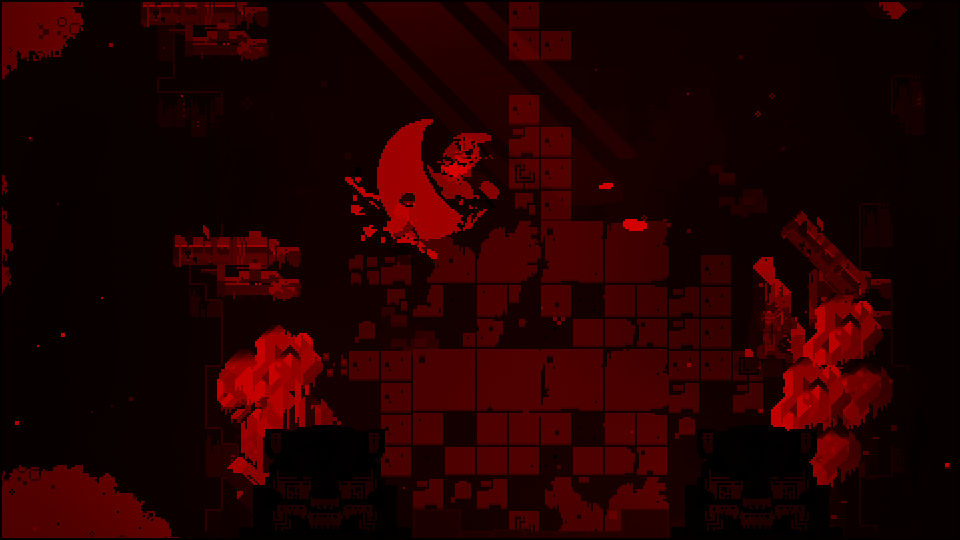hanged_man: (427, 121, 498, 235)
